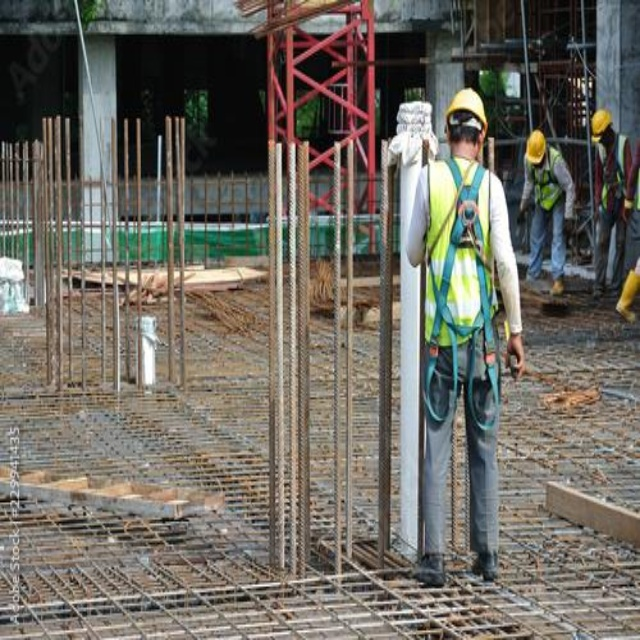Arnes_seguridad: (422, 156, 501, 434), (593, 135, 633, 223), (522, 148, 567, 210)
